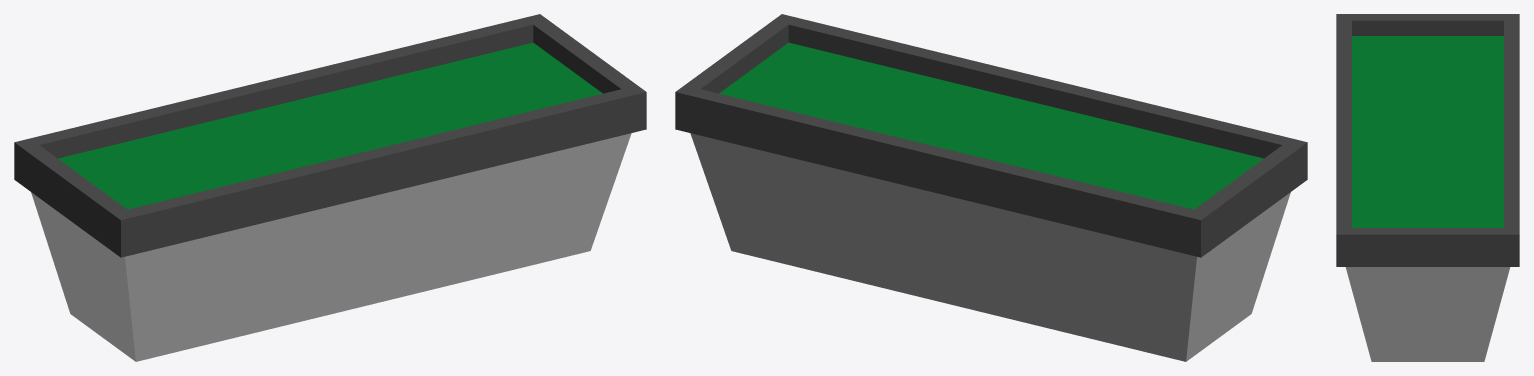
Rendered from Vase-01.fbx.
3 renders of one model, left to right at view 1: azimuth 30°, elevation 25°; view 2: azimuth 150°, elevation 25°; view 3: azimuth 270°, elevation 25°, orthographic. The views are drawn at different scales.
Visible parts, largest first — view 1: Flowerbed-02; view 2: Flowerbed-02; view 3: Flowerbed-02.
Boxes of the visible parts, x1,y1,x2,y2 form: Flowerbed-02: (14,14,646,361); Flowerbed-02: (675,14,1307,361); Flowerbed-02: (1336,14,1519,361).
Size of the model in its own units: 2.51 by 0.7558 by 0.8832.
